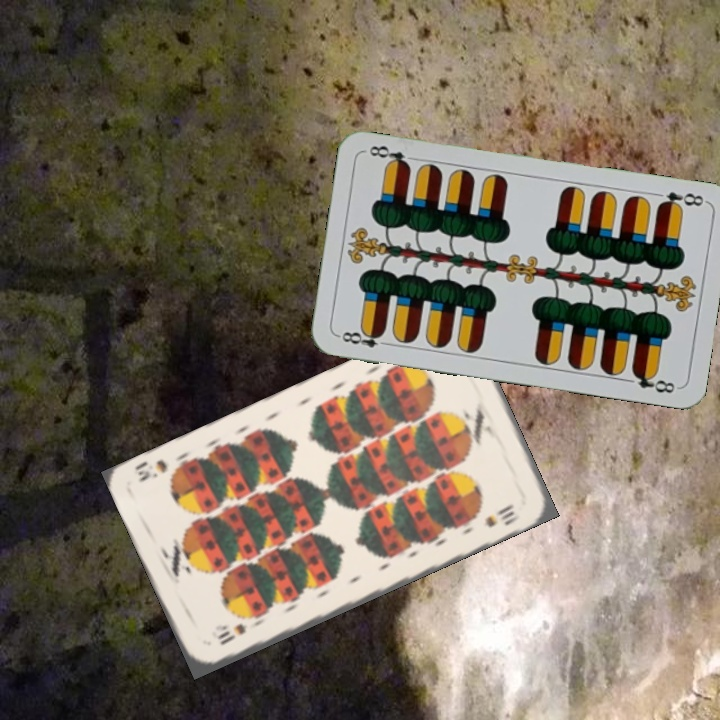E8: (334, 325, 393, 351), (653, 187, 708, 213)
S10: (213, 620, 250, 648)
